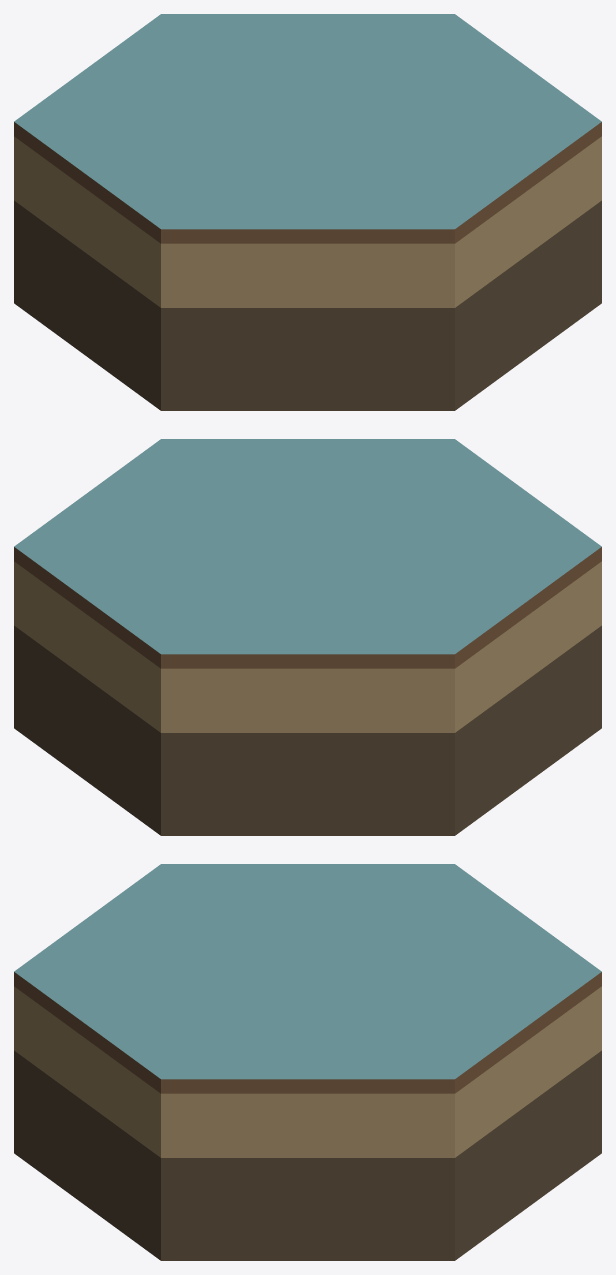
The model's file is AW-HEX-WATER-v0.1.glb.
The picture shows the model from 3 angles, top to bottom: view 1: azimuth 30°, elevation 25°; view 2: azimuth 150°, elevation 25°; view 3: azimuth 270°, elevation 25°; orthographic projection.
Parts seen in each view (by area): view 1: AW-HEX-WATER-v01; view 2: AW-HEX-WATER-v01; view 3: AW-HEX-WATER-v01.
Boxes of the visible parts, box(x1,y1,x2,y2) form: AW-HEX-WATER-v01: box(14, 14, 601, 410); AW-HEX-WATER-v01: box(14, 439, 601, 835); AW-HEX-WATER-v01: box(14, 864, 601, 1260).
Size of the model in its own units: 3.81 by 1.5 by 4.4.
